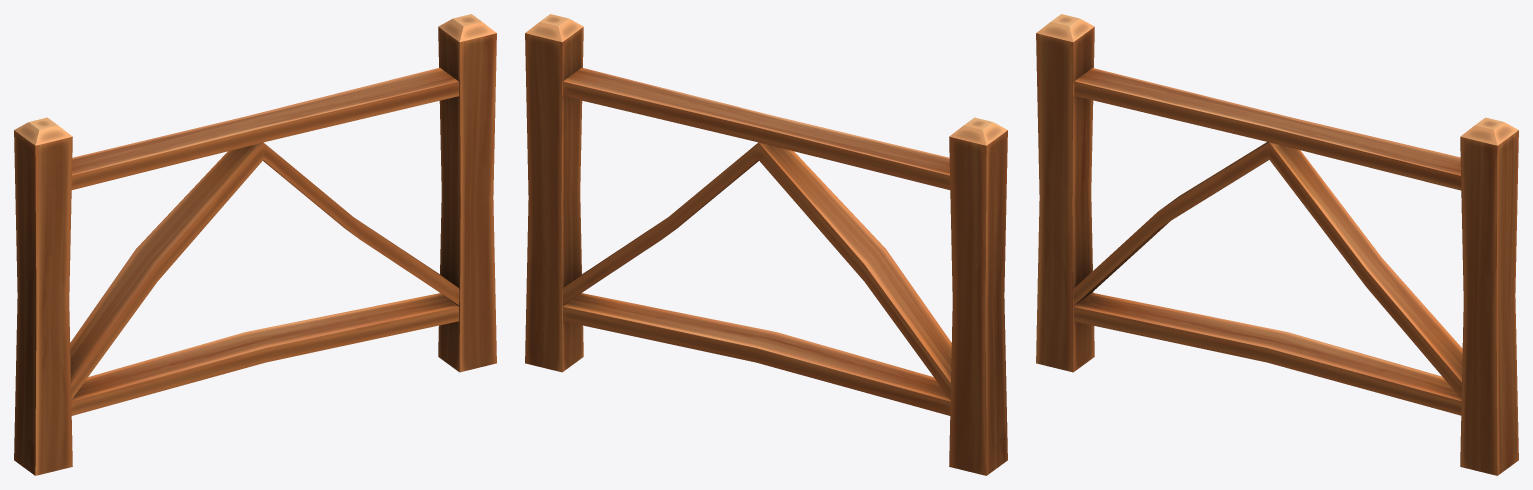
File: Fences01_2.FBX
The picture shows the model from 3 angles, left to right: view 1: azimuth 30°, elevation 25°; view 2: azimuth 150°, elevation 25°; view 3: azimuth 330°, elevation 25°; orthographic projection.
Visible parts, largest first — view 1: Fences01_2; view 2: Fences01_2; view 3: Fences01_2.
Boxes of the visible parts, x1,y1,x2,y2 form: Fences01_2: [14, 14, 496, 475]; Fences01_2: [525, 14, 1007, 475]; Fences01_2: [1036, 14, 1518, 475].
Size of what is drawn, in the model's own units: 1.9 by 1.34 by 0.1528.
